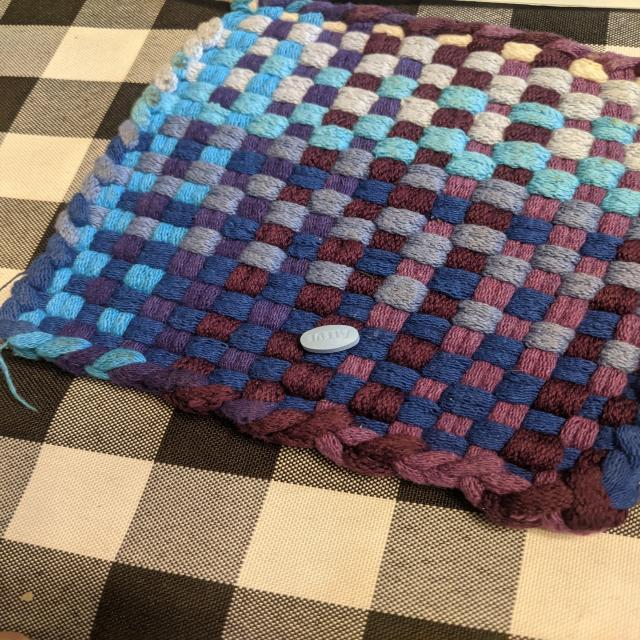non-organic waste: (299, 324, 361, 354)
